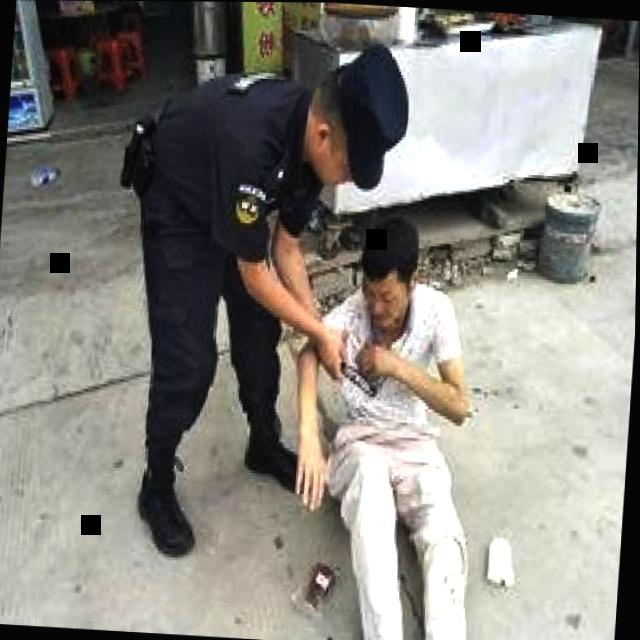Fall-Detected: (265, 199, 564, 640)
